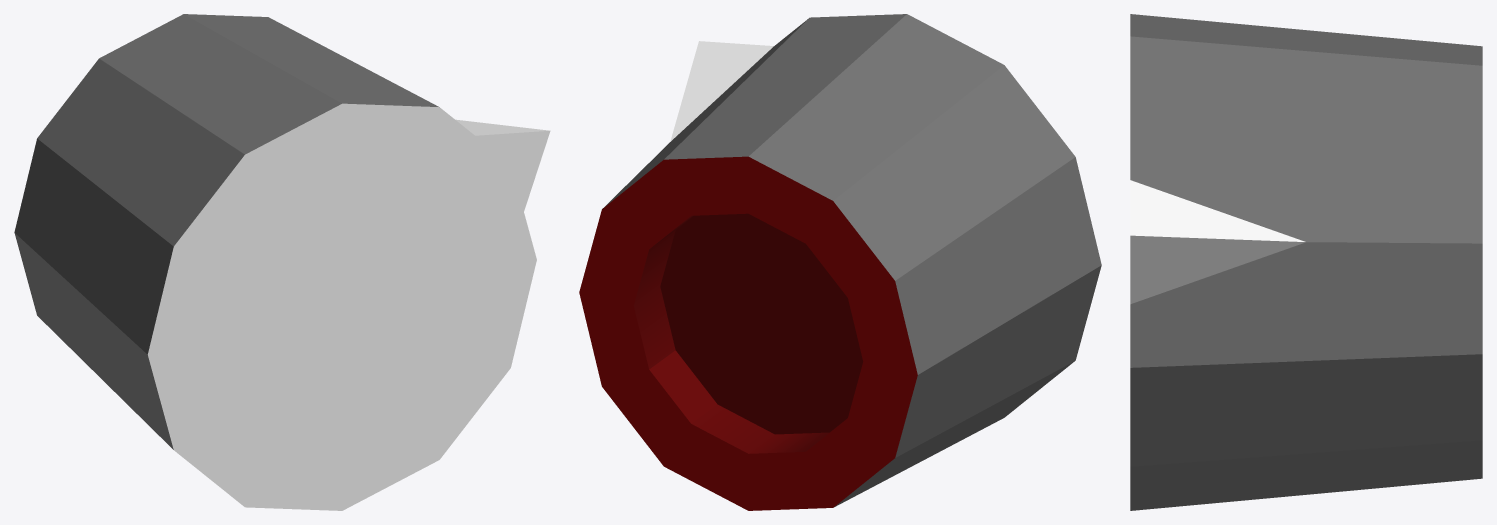
The model's file is Volts.fbx.
The picture shows the model from 3 angles, left to right: view 1: azimuth 30°, elevation 25°; view 2: azimuth 150°, elevation 25°; view 3: azimuth 270°, elevation 25°; orthographic projection. The views are drawn at different scales.
Parts seen in each view (by area): view 1: Volts; view 2: Volts; view 3: Volts.
Boxes of the visible parts, box(x1,y1,x2,y2) form: Volts: box(14, 14, 550, 510); Volts: box(579, 14, 1101, 510); Volts: box(1130, 14, 1482, 510).
Size of the model in its own units: 1.76 by 1.7 by 1.2.
